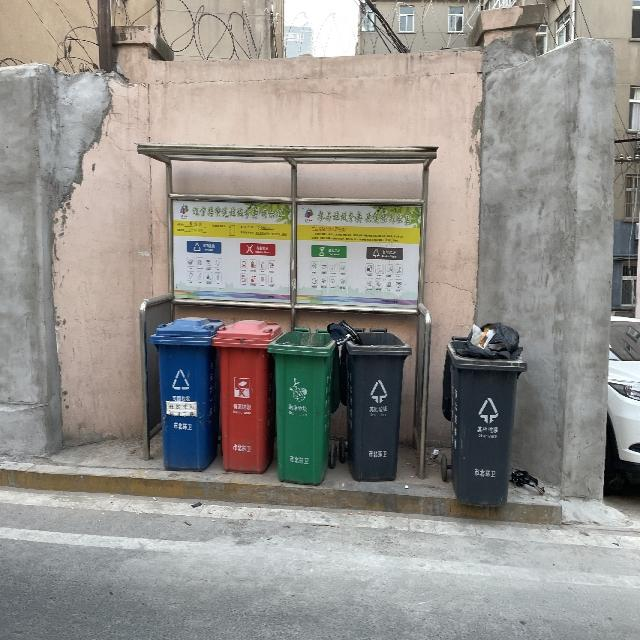garbage: (509, 469, 544, 495)
garbage_bin: (266, 326, 341, 485), (149, 316, 225, 471), (211, 319, 283, 474)
overflow: (440, 321, 526, 506), (328, 321, 411, 481)
